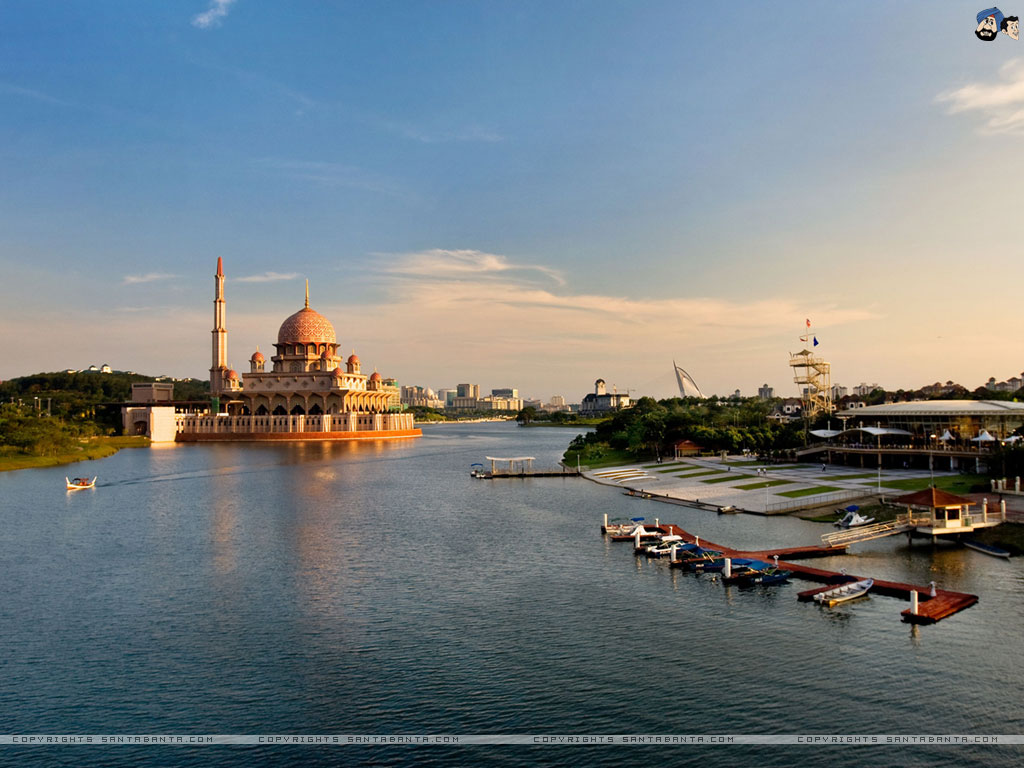Mosque: (133, 244, 396, 445)
